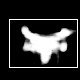plane: (13, 23, 69, 60)
